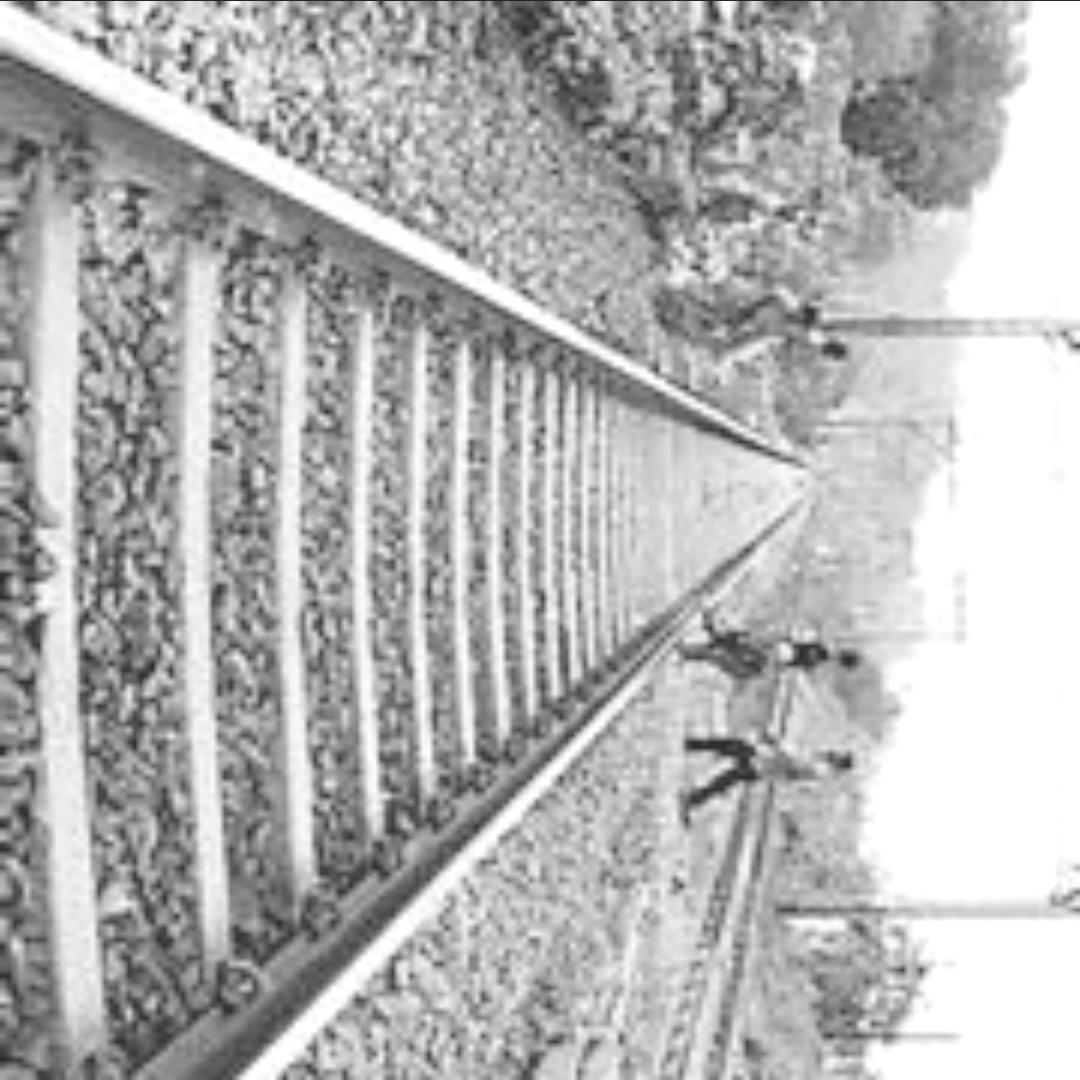standing: (608, 162, 870, 365), (672, 715, 865, 822), (670, 590, 878, 685)
track: (3, 8, 848, 1080)
